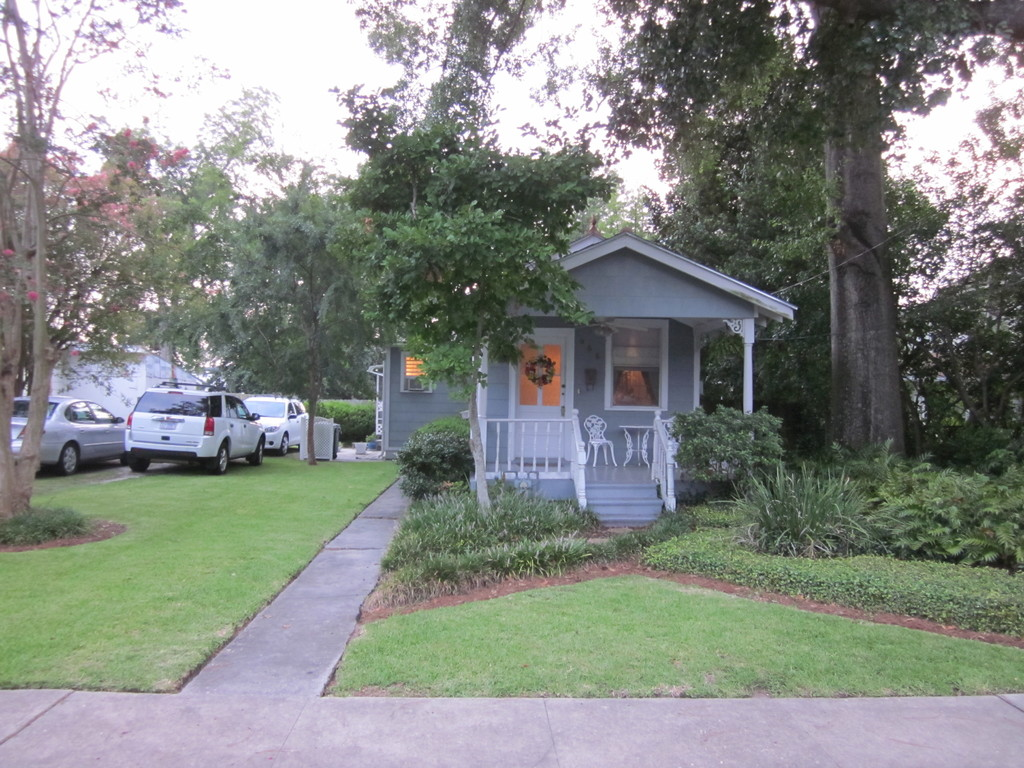cars: (122, 384, 265, 474), (11, 395, 124, 475), (235, 397, 307, 454)
